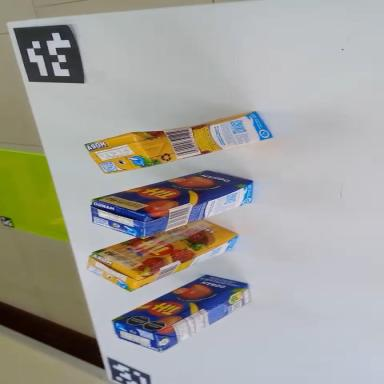HIT-MANGO: (88, 151, 259, 251), (110, 253, 256, 367)
HIT-MORA: (83, 198, 242, 303), (84, 103, 273, 178)
cara_F: (94, 200, 238, 288), (94, 151, 254, 230), (112, 256, 249, 348)
